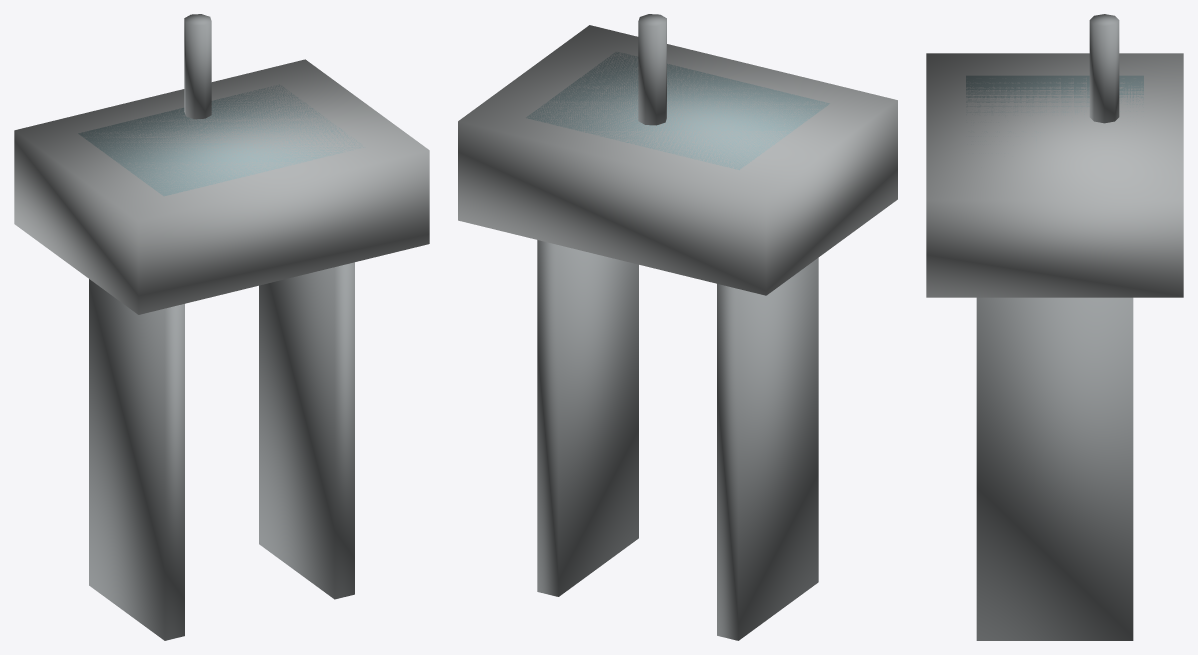
The model's file is bar_sink__compact.glb.
3 renders of one model, left to right at view 1: azimuth 30°, elevation 25°; view 2: azimuth 150°, elevation 25°; view 3: azimuth 270°, elevation 25°, orthographic. The views are drawn at different scales.
Parts seen in each view (by area): view 1: world; view 2: world; view 3: world.
Part boxes in pixels (<box>): world: <box>14,14,429,640</box>; world: <box>458,14,897,640</box>; world: <box>926,14,1183,640</box>.
Bounding box in the file's own units: 0.6048 × 1.1 × 0.4472.
